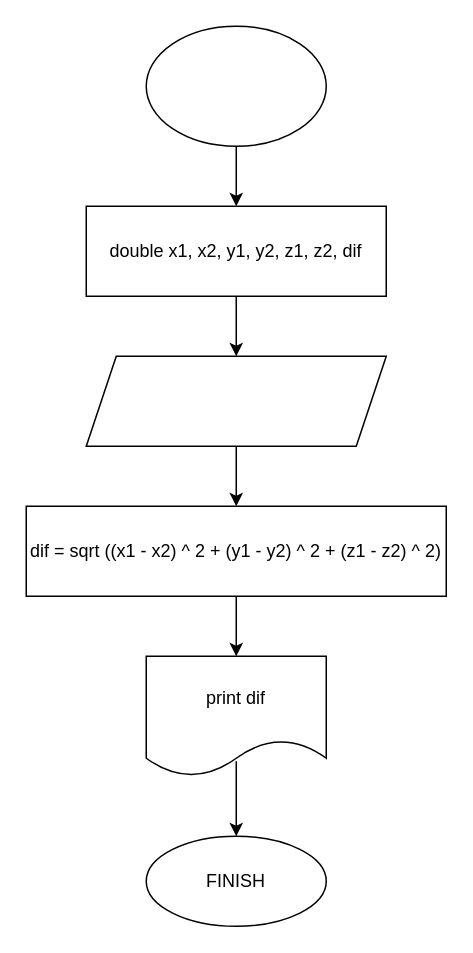
This 473x953 diagram has some shape labels left out. Here are the shapes that lost their labels. From the top down, the centre of each, then its label:
At point 235,85: "START".
At point 235,400: "input x1, y1, z1, x2, y2, z2".
